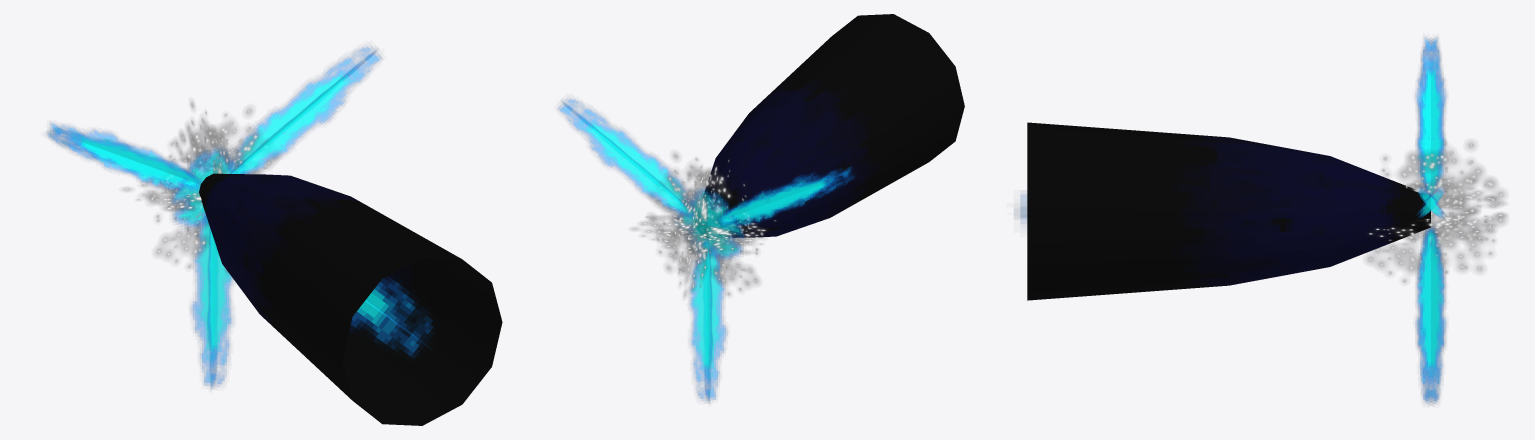
Rendered from si_eoao_5000.glb.
The picture shows the model from 3 angles, left to right: view 1: azimuth 30°, elevation 25°; view 2: azimuth 150°, elevation 25°; view 3: azimuth 270°, elevation 25°; orthographic projection. The views are drawn at different scales.
Parts seen in each view (by area): view 1: layer_02_si_eoao_5001, layer_00_si_eoao_5000, layer_01_si_eoao_5000, layer_03_si_est_0200; view 2: layer_02_si_eoao_5001, layer_00_si_eoao_5000, layer_03_si_est_0200, layer_01_si_eoao_5000; view 3: layer_02_si_eoao_5001, layer_00_si_eoao_5000, layer_03_si_est_0200.
Part boxes in pixels (box(x1,y1,x2,y2)): layer_02_si_eoao_5001: box(199, 173, 502, 425); layer_00_si_eoao_5000: box(47, 46, 381, 389); layer_01_si_eoao_5000: box(172, 147, 433, 358); layer_03_si_est_0200: box(123, 101, 278, 272); layer_02_si_eoao_5001: box(695, 14, 964, 237); layer_00_si_eoao_5000: box(558, 98, 855, 403); layer_03_si_est_0200: box(632, 153, 776, 296); layer_01_si_eoao_5000: box(674, 188, 743, 260); layer_02_si_eoao_5001: box(1027, 122, 1430, 300); layer_00_si_eoao_5000: box(1415, 37, 1446, 403); layer_03_si_est_0200: box(1366, 142, 1506, 282).
Size of the model in its own units: 18.43 by 15.96 by 23.52.
3 materials, 3 textured.
